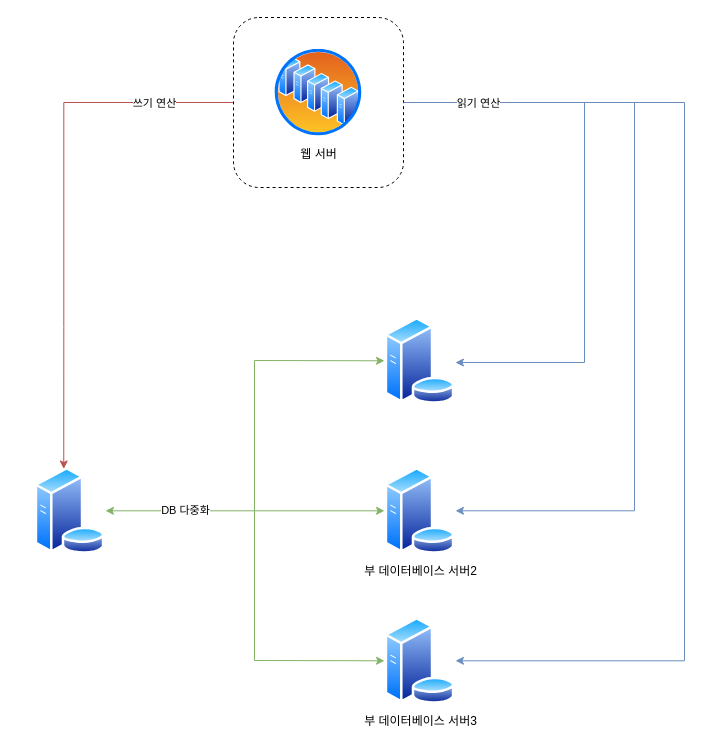
This 710x746 diagram has some shape labels left out. The box of each missing label's shape, as (x1, y1, x2, y2) in pixels:
부 데이터베이스 서버1: (384, 317, 455, 404)
주 데이터베이스 서버: (34, 467, 105, 554)
